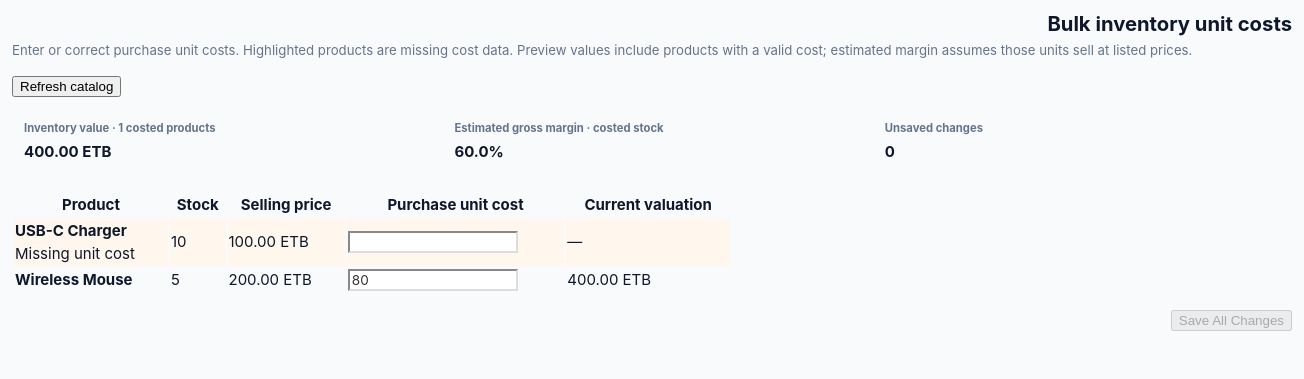
Scenario: BulkCostUpdater › blocks negative or invalid values before making the request
The image size is (1304, 379).
In the number field named "Unit cost for USB-C Charger": point(433, 242) [348, 232, 518, 254], type "-5"
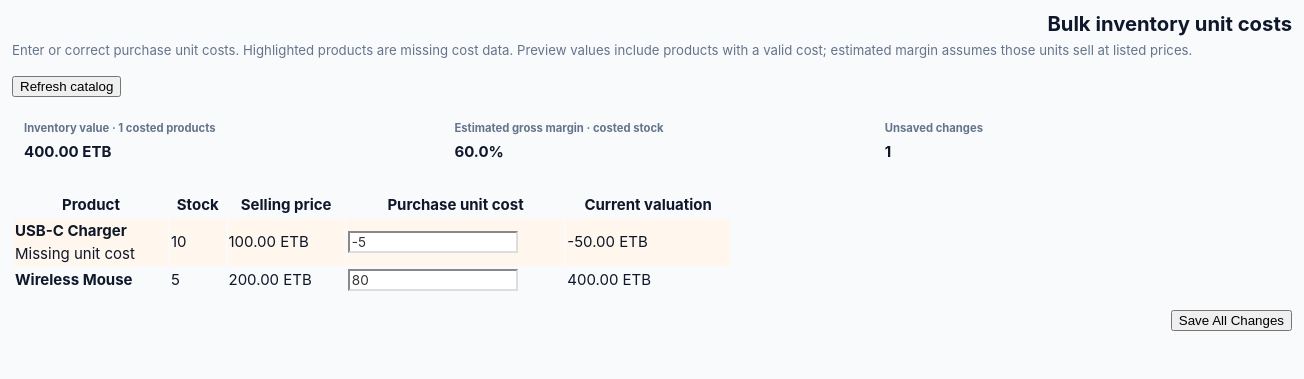
Click the button "Save All Changes": point(1231, 320) [1171, 310, 1292, 331]
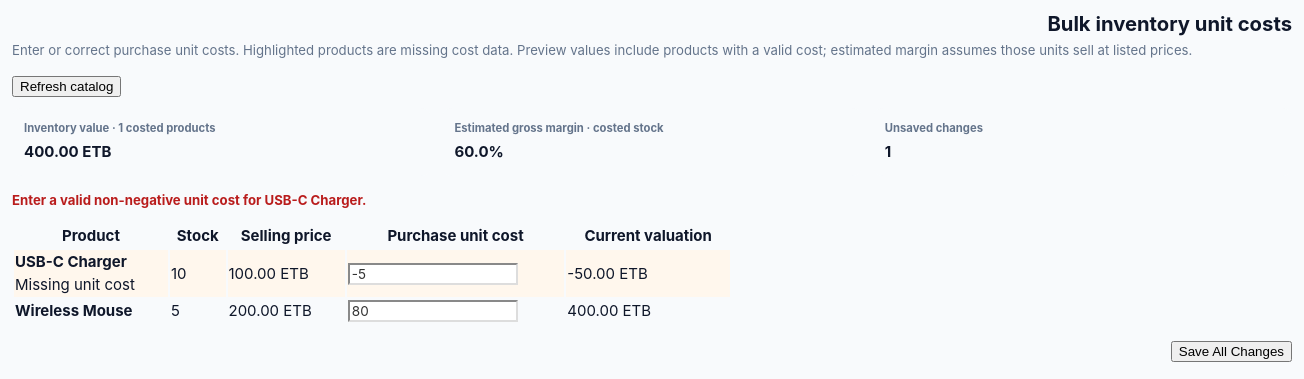
Expected: the message shows "non-negative unit cost", [12, 192, 366, 208]
